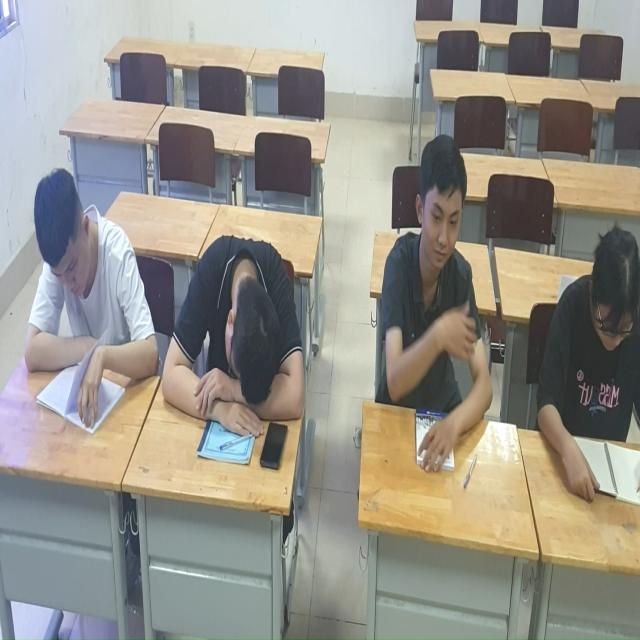raise_hand: (379, 112, 490, 489)
read: (9, 156, 156, 431), (537, 227, 640, 499)
sleep: (152, 207, 308, 444)
